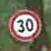limite 30: (7, 8, 42, 42)
